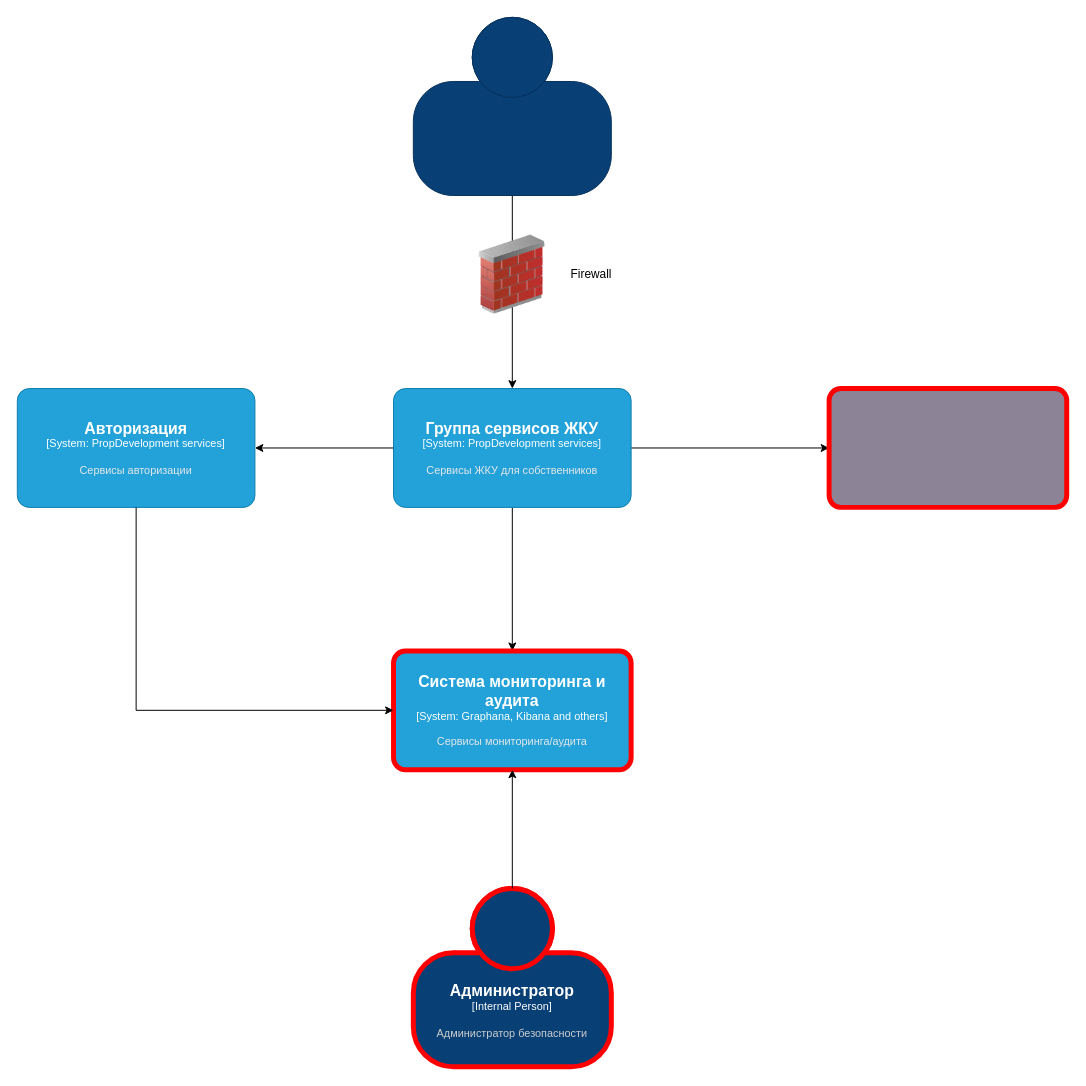
Image size: 1086x1086. Some labels were removed from this diagram. The centre of each missing label's shape, as x and y in pixels:
Поставщик системы "Умный дом" [Software System]: (947,447)
Собственник [Person] Клиент: (511,106)
